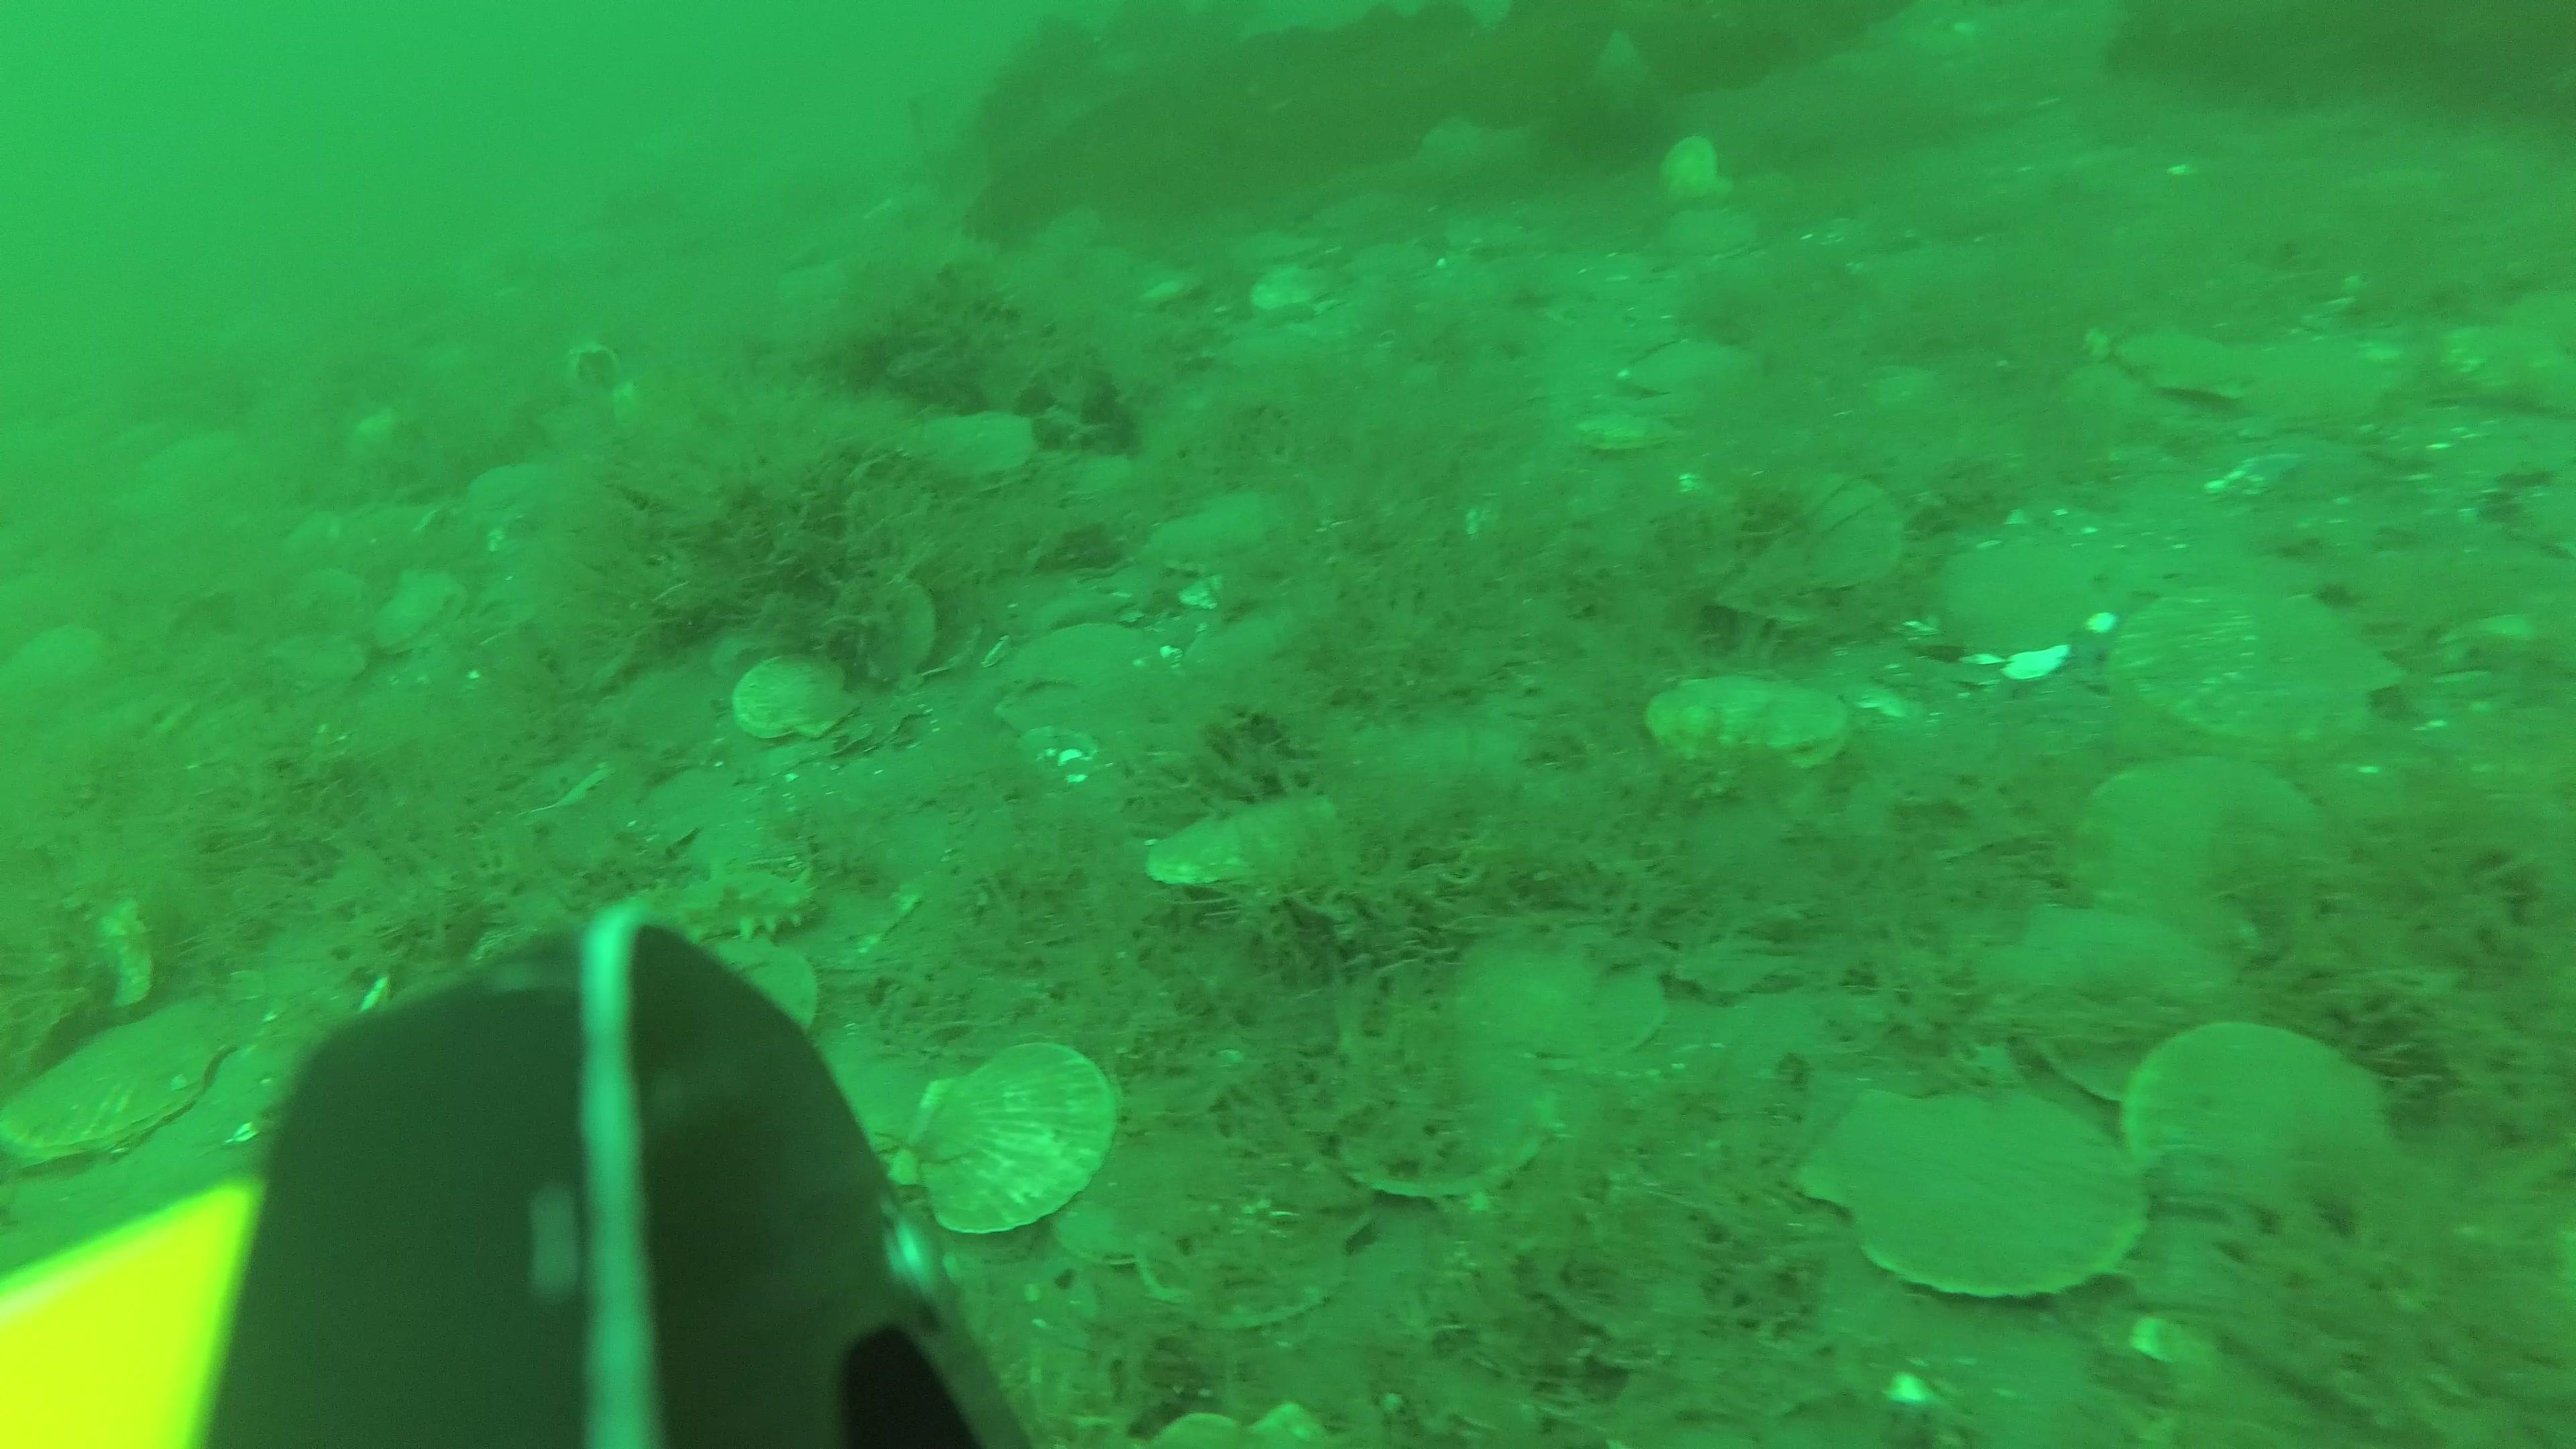holothurian: (596, 878, 824, 964)
scallop: (1806, 1083, 2151, 1316), (1985, 890, 2266, 1115), (2130, 1012, 2399, 1235), (2081, 741, 2344, 955), (2120, 575, 2399, 757), (892, 1051, 1131, 1247), (1302, 1023, 1548, 1210), (5, 998, 248, 1171), (1047, 1081, 1244, 1272), (1143, 1150, 1355, 1323), (1453, 922, 1670, 1085), (1649, 663, 1851, 791), (1727, 472, 1913, 607), (1145, 800, 1352, 915), (1928, 527, 2100, 663), (626, 763, 777, 908), (2235, 341, 2392, 441), (727, 660, 869, 743), (826, 577, 943, 674), (920, 402, 1035, 499), (2118, 326, 2249, 410), (1633, 334, 1757, 410), (366, 575, 472, 662), (11, 626, 113, 713), (462, 462, 564, 540), (272, 632, 368, 708), (1660, 202, 1760, 264), (1571, 400, 1675, 455), (1661, 138, 1734, 212)
